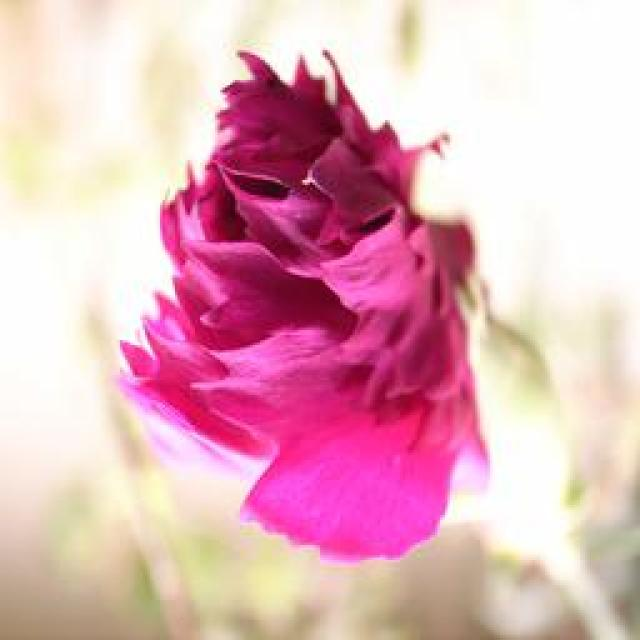carnation: (112, 54, 512, 590)
